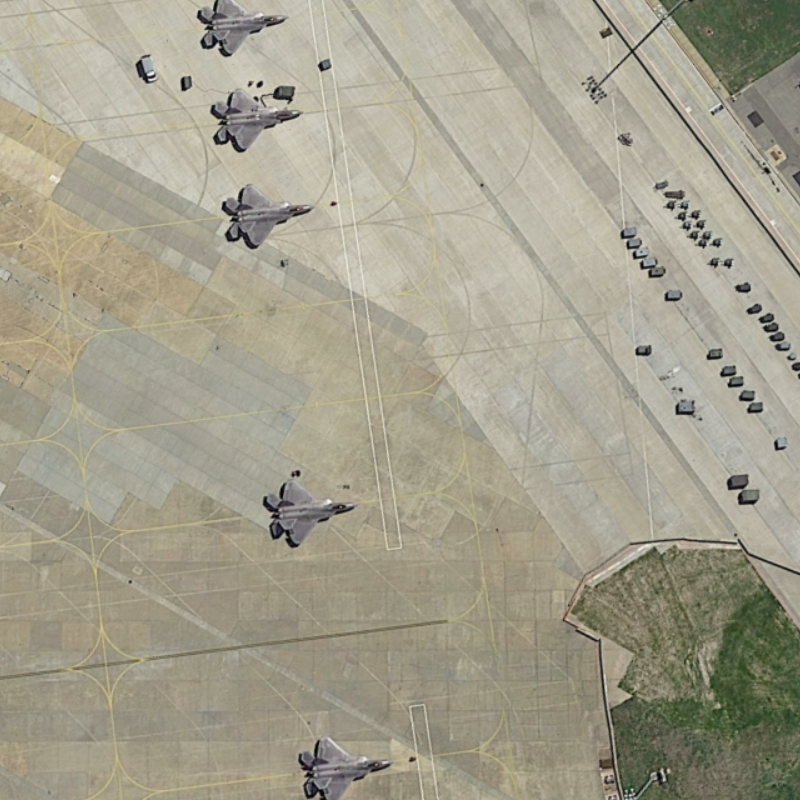A15: (251, 472, 362, 554), (201, 80, 307, 158), (215, 181, 321, 256), (293, 728, 395, 800), (190, 1, 293, 61)
